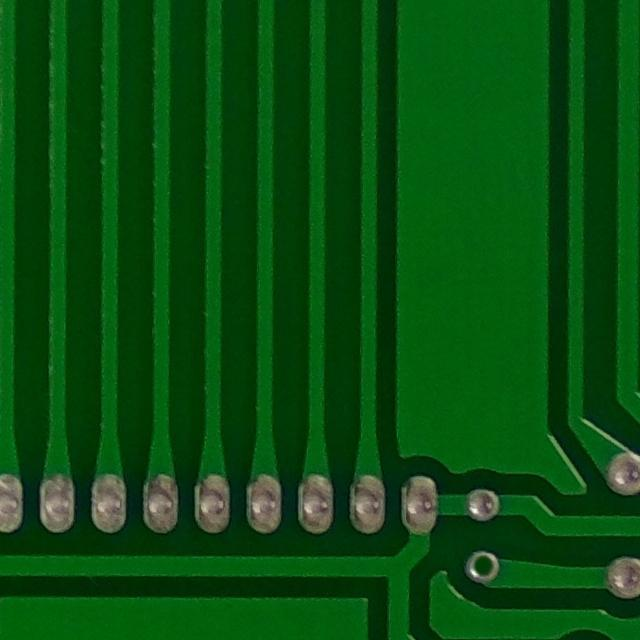missing_hole: (458, 546, 509, 590)
